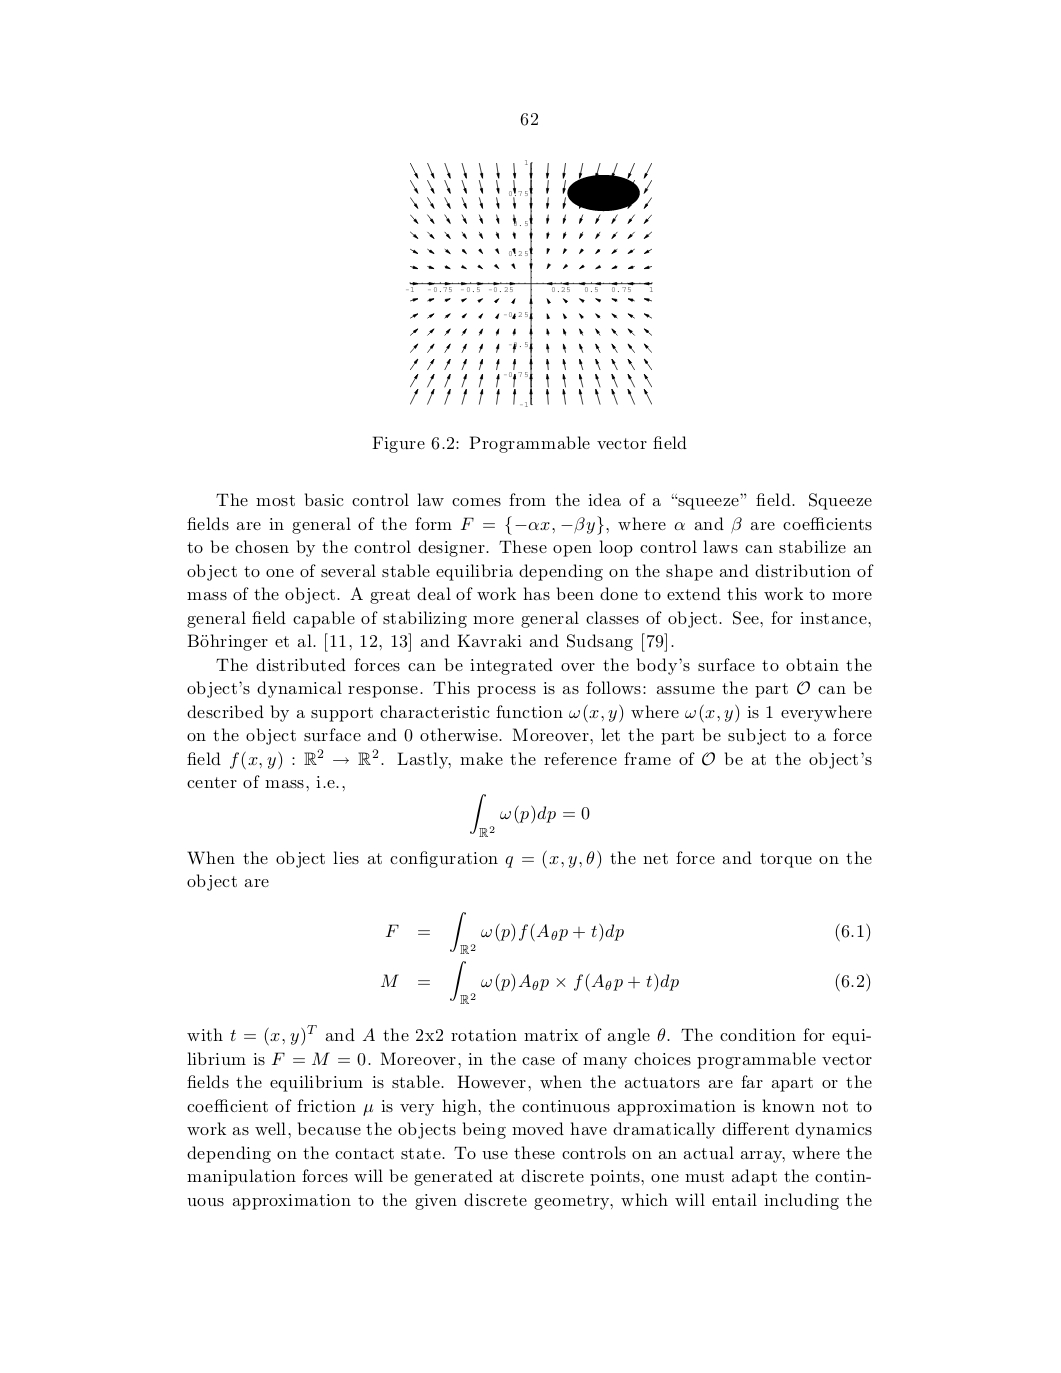figure: (406, 159, 652, 407)
formula: (380, 960, 870, 1004), (385, 911, 870, 954), (470, 792, 588, 837)
